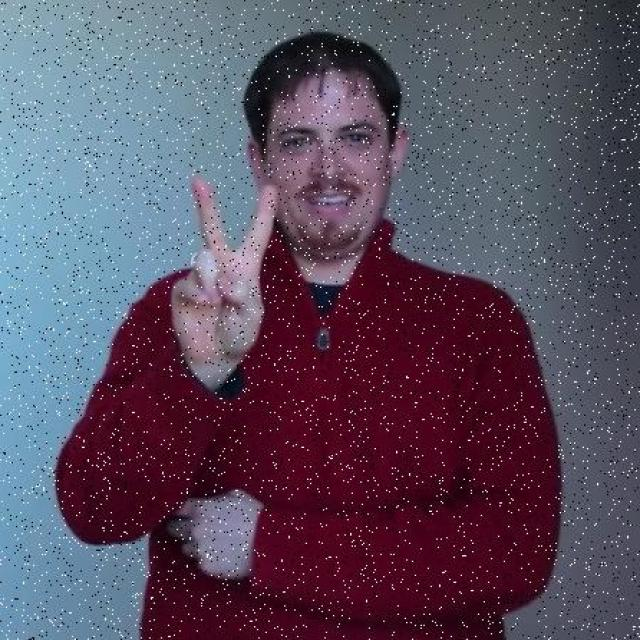V: (171, 175, 290, 369)
